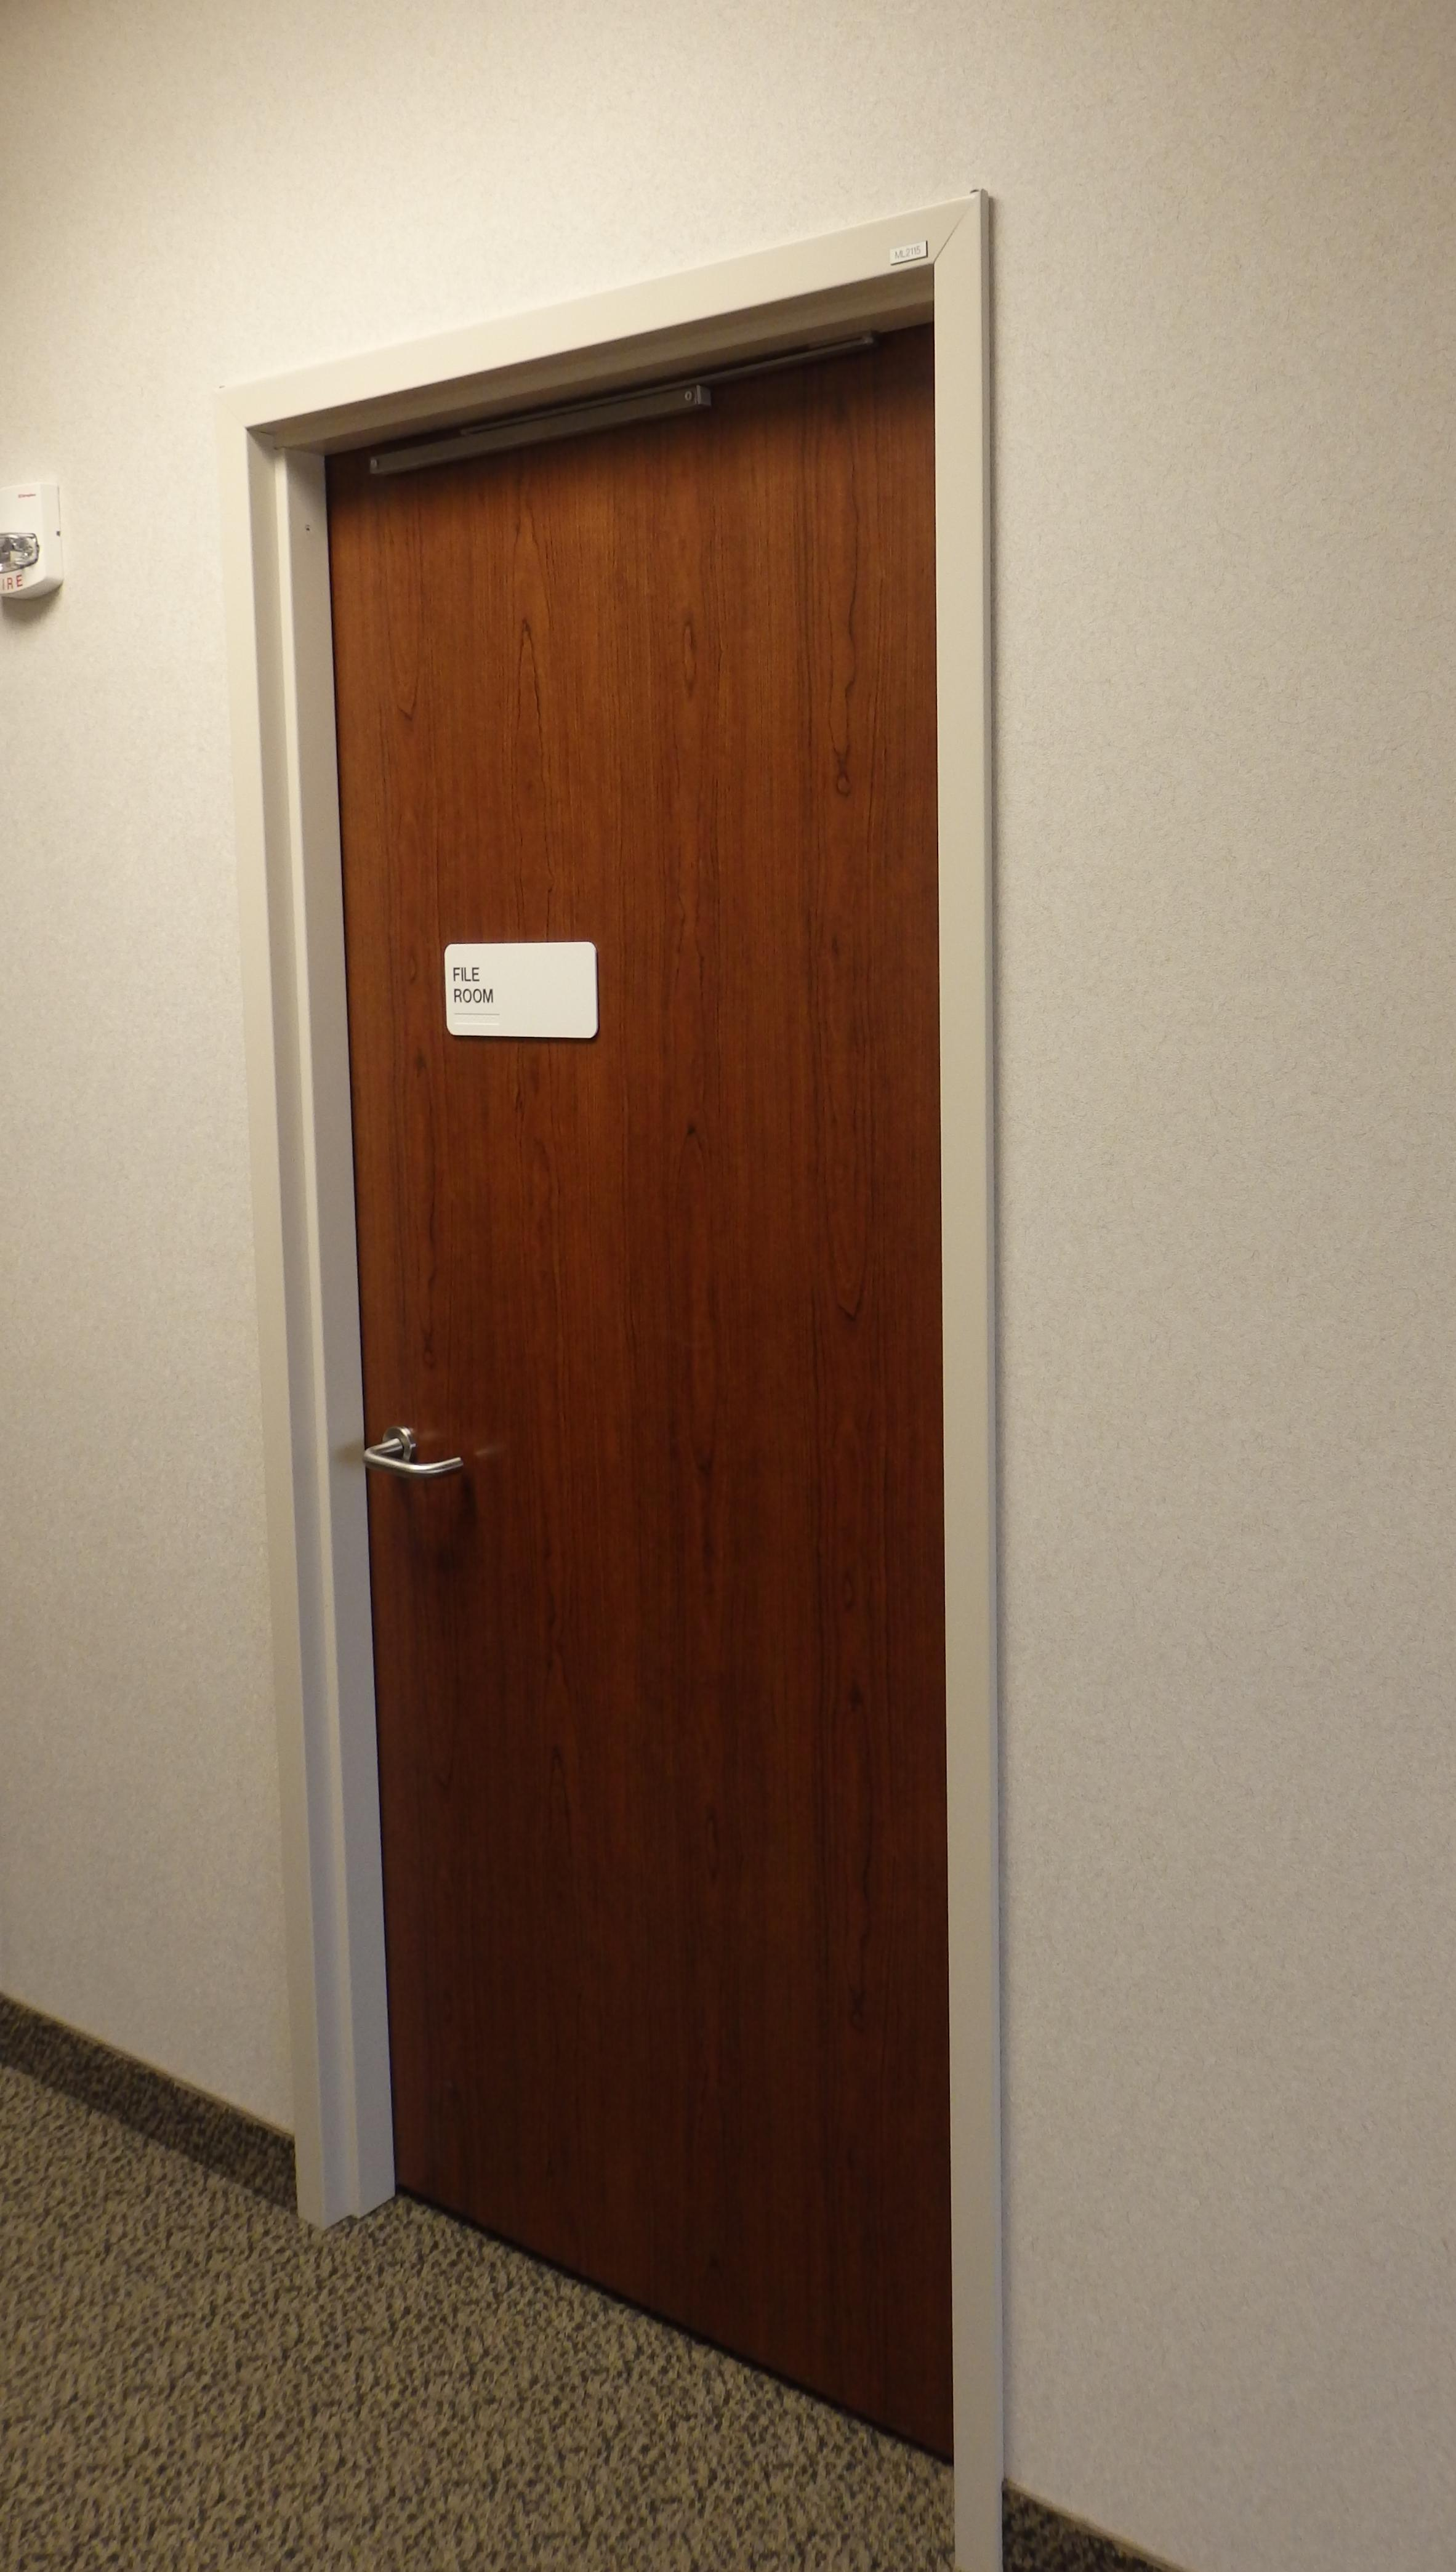door: (214, 277, 944, 2462)
